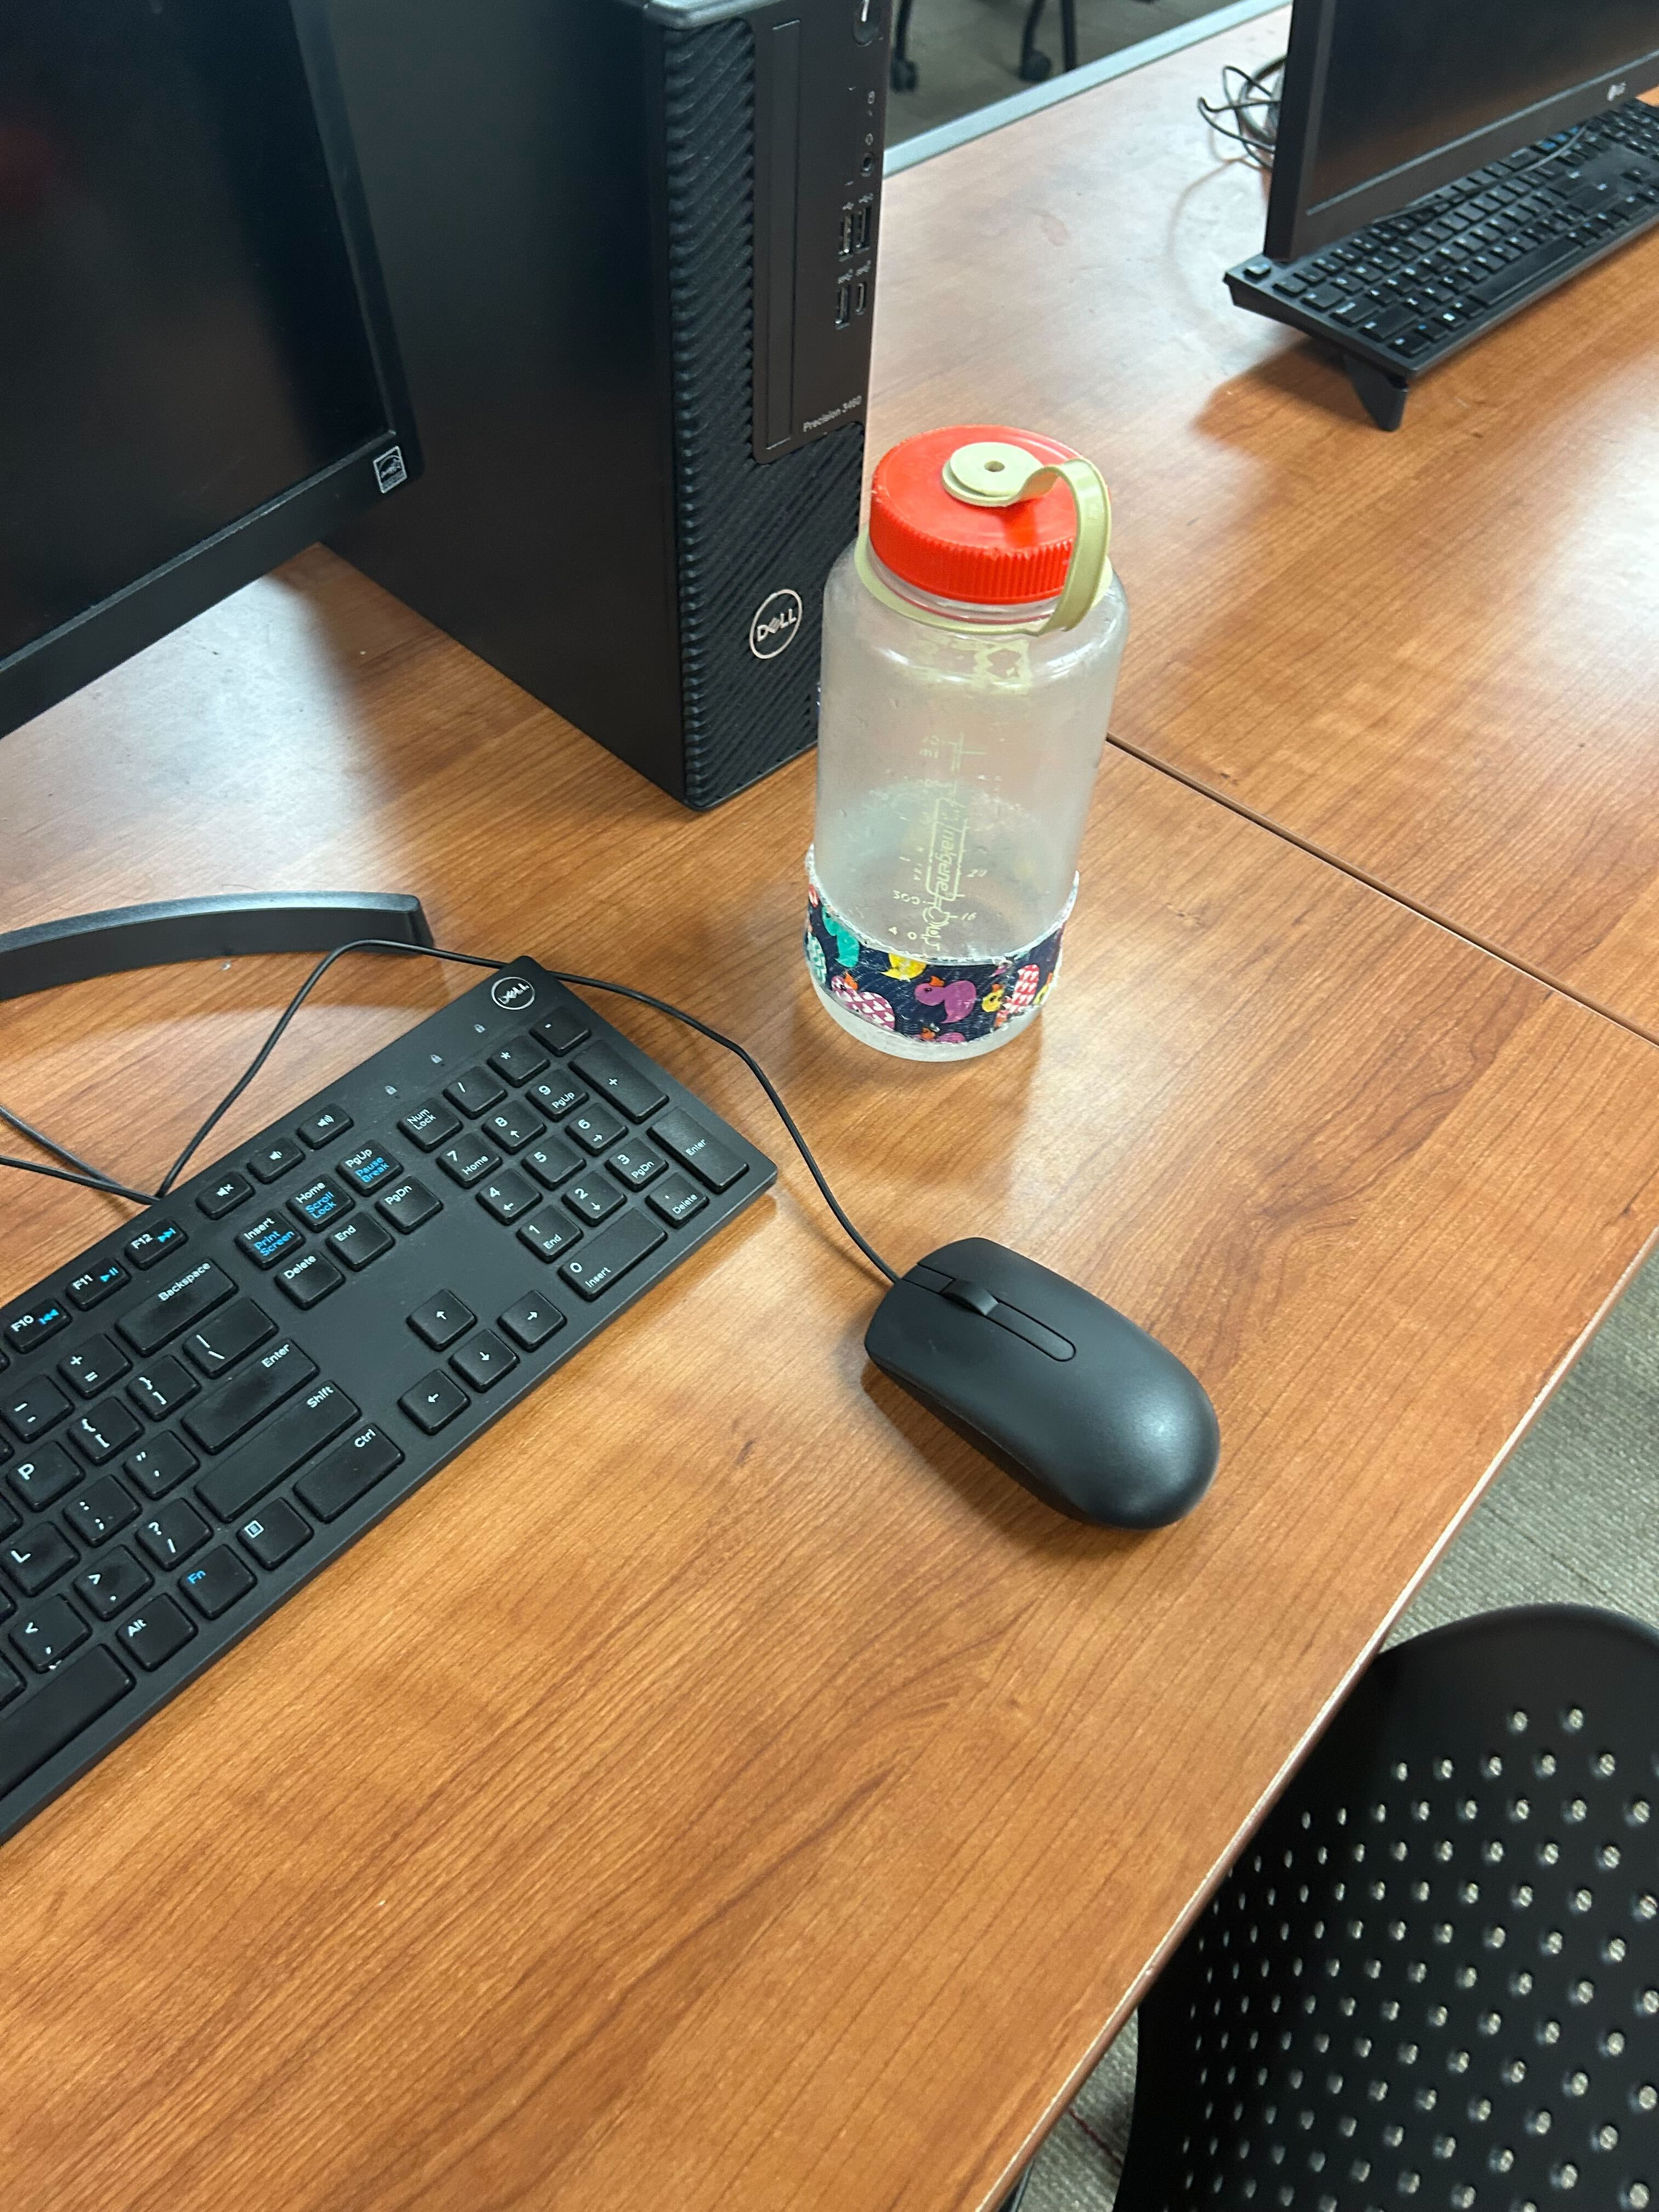bottle: (798, 413, 1134, 1071)
